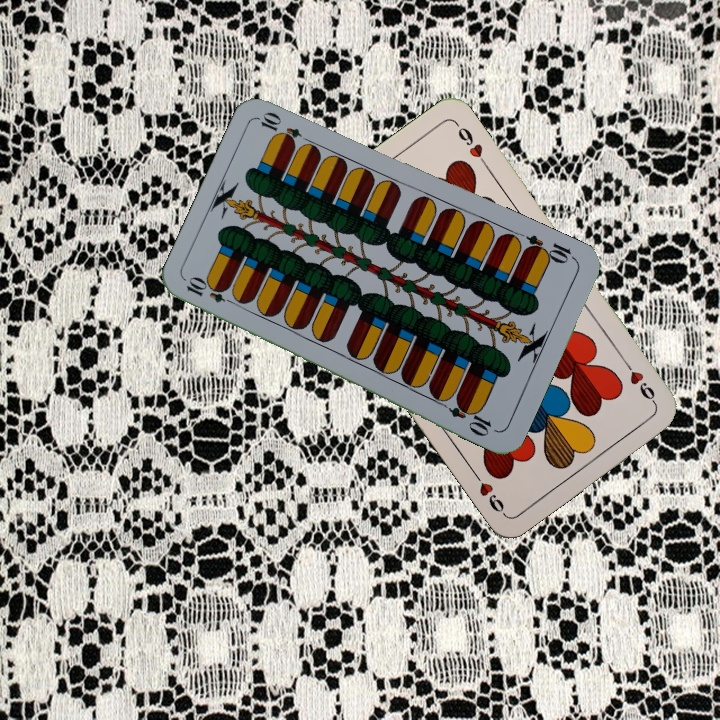E10: (520, 231, 579, 267), (182, 275, 240, 308)
H9: (619, 356, 659, 407)
